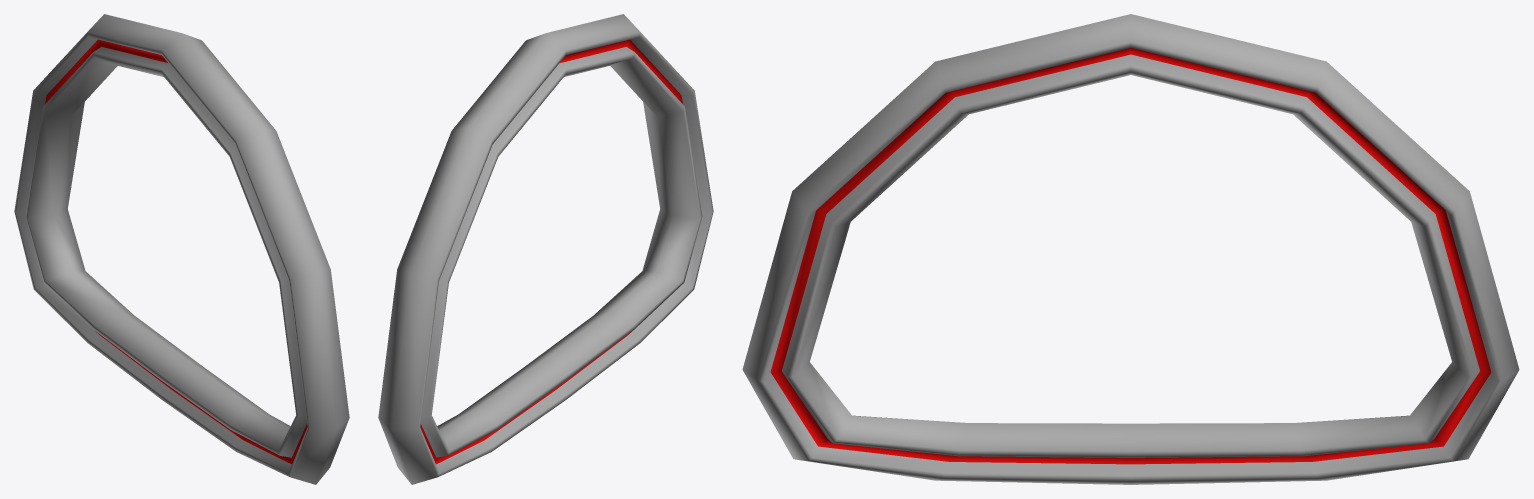
File: transSmallRingTrack.fbx
The picture shows the model from 3 angles, left to right: view 1: azimuth 30°, elevation 25°; view 2: azimuth 150°, elevation 25°; view 3: azimuth 270°, elevation 25°; orthographic projection. The views are drawn at different scales.
Parts seen in each view (by area): view 1: transSmallRingTrack; view 2: transSmallRingTrack; view 3: transSmallRingTrack.
Boxes of the visible parts, x1,y1,x2,y2 form: transSmallRingTrack: (14,14,349,484); transSmallRingTrack: (378,14,713,484); transSmallRingTrack: (742,14,1519,484).
Bounding box in the file's own units: 0.0139 × 0.1235 × 0.1846.
